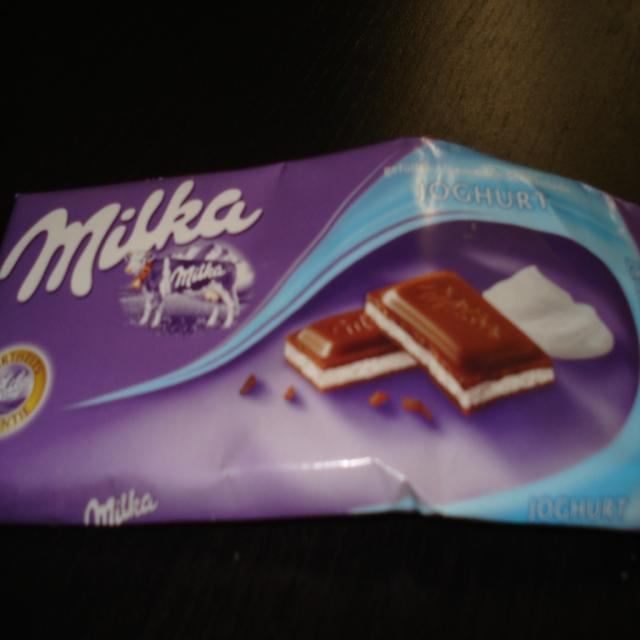milka: (2, 178, 268, 342), (81, 489, 159, 535)
